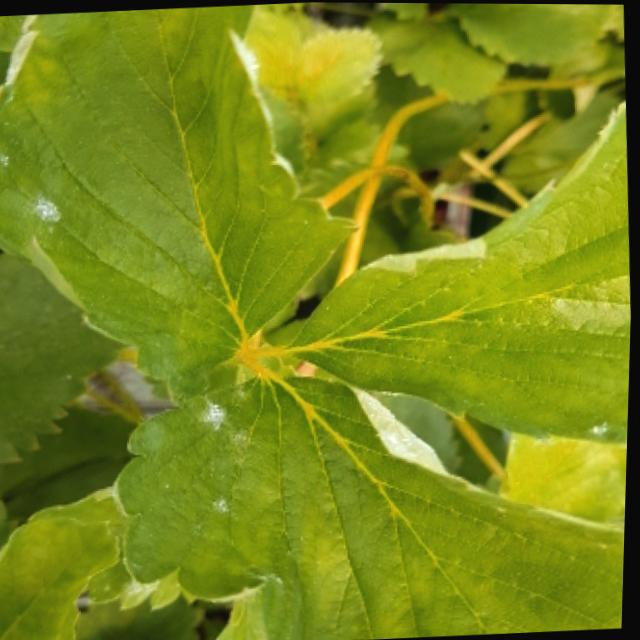Powdery Mildew Leaf: (117, 355, 628, 640), (0, 4, 359, 404), (283, 98, 633, 448), (0, 485, 129, 640)
